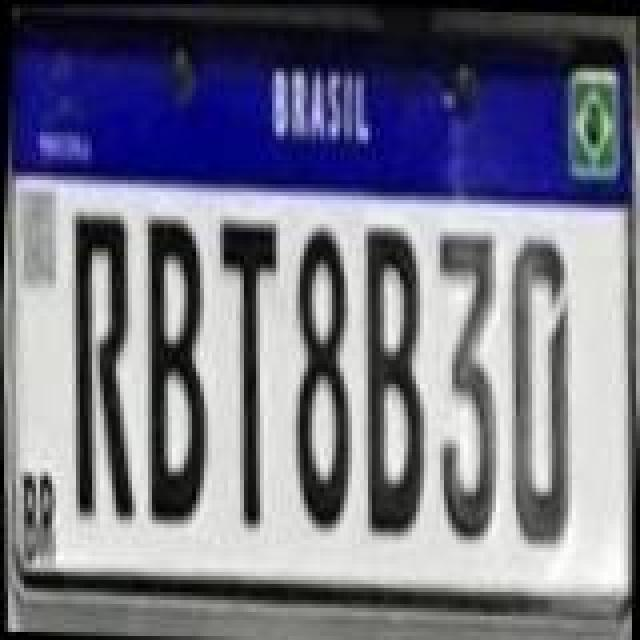3: (422, 224, 510, 544)
8: (276, 220, 360, 536)
B: (346, 216, 434, 536), (130, 210, 218, 526)
D: (494, 226, 582, 550)
R: (58, 204, 146, 524)
T: (202, 208, 290, 528)
